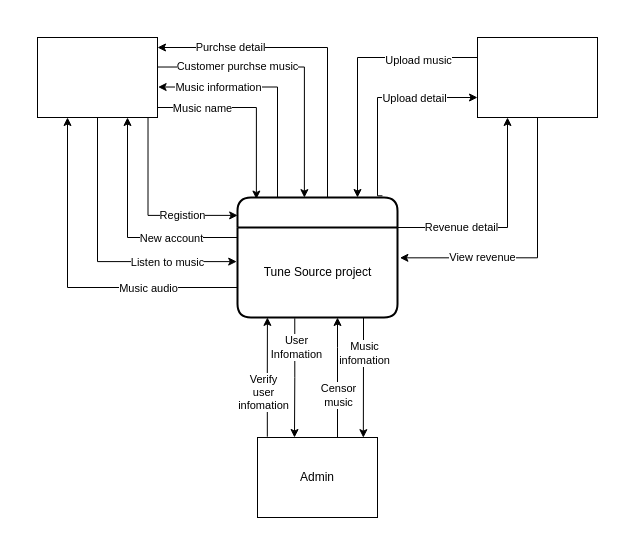
Image size: 634x554. Some labels were removed from this diagram. Here are the shapes that lost their labels. From the top down, the centre of each, then its label:
At pixel 97 77: "User".
At pixel 537 77: "Producer".
